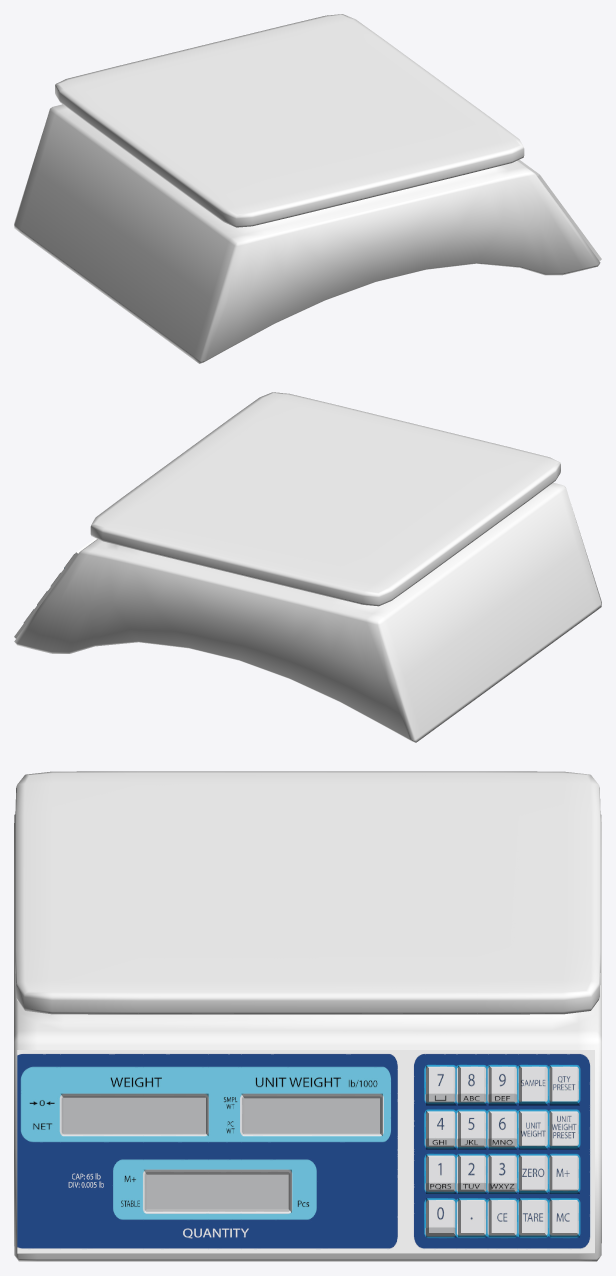
File: scale.gltf
3 renders of one model, top to bottom at view 1: azimuth 30°, elevation 25°; view 2: azimuth 150°, elevation 25°; view 3: azimuth 270°, elevation 25°, orthographic. The views are drawn at different scales.
Visible parts, largest first — view 1: scalebody, scaleplate; view 2: scalebody, scaleplate; view 3: scaleplate, scalecontrolpanel, scalebody.
Part boxes in pixels (<box>): scalebody: <box>14,104,600,363</box>; scaleplate: <box>55,14,524,227</box>; scalebody: <box>14,482,601,742</box>; scaleplate: <box>90,392,560,606</box>; scaleplate: <box>15,771,600,1014</box>; scalecontrolpanel: <box>17,1050,594,1253</box>; scalebody: <box>14,814,601,1261</box>.
Bounding box in the file's own units: 1.22 × 0.3984 × 0.9872.
Materials: 3 (1 with a texture image).
